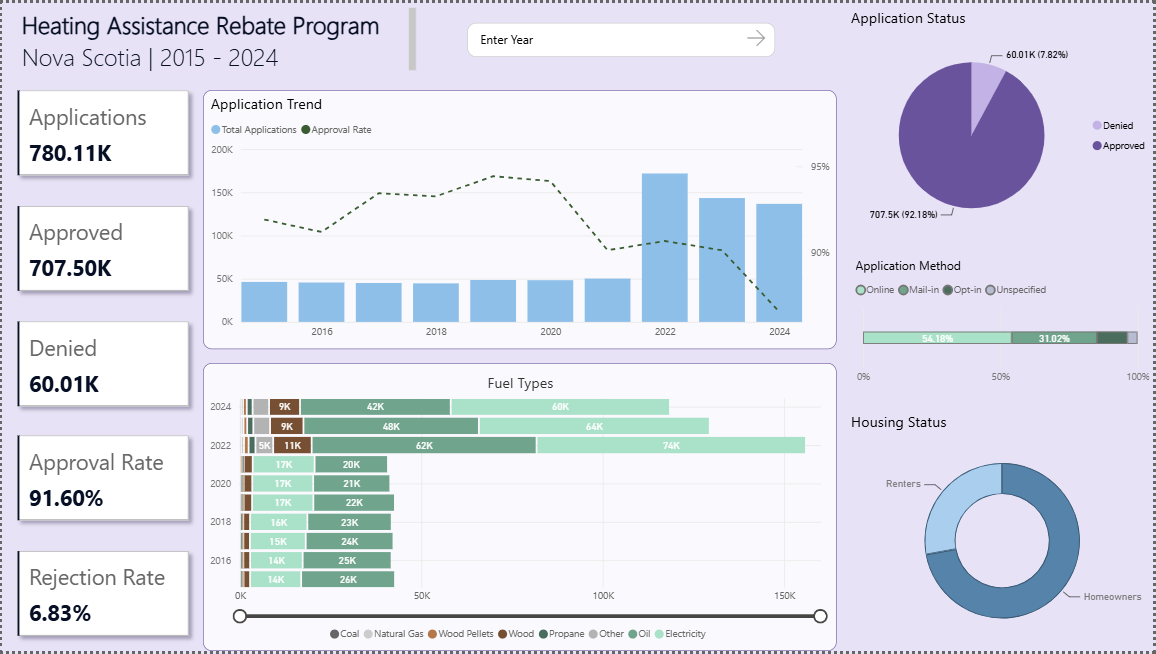

Layout of this report page (visuals, bound fields, positions):
{"tool":"powerbi","page":{"name":"Overview","canvas":[1280,720],"ordinal":0},"visuals":[{"type":"barChart","title":"Fuel Types","fields":{"Category":["Heating_Assistance_Rebate_Program_20260807.Year"],"Y":["Sum(Heating_Assistance_Rebate_Program_20260807.Coal)","Sum(Heating_Assistance_Rebate_Program_20260807.Natural Gas)","Sum(Heating_Assistance_Rebate_Program_20260807.Wood Pellets)","Sum(Heating_Assistance_Rebate_Program_20260807.Wood)","Sum(Heating_Assistance_Rebate_Program_20260807.Propane)","Sum(Heating_Assistance_Rebate_Program_20260807.Other)","Sum(Heating_Assistance_Rebate_Program_20260807.Oil)","Sum(Heating_Assistance_Rebate_Program_20260807.Electricity)"]},"box":[224,400,704,320],"z":0},{"type":"pieChart","title":"Application Status","fields":{"Y":["Sum(Heating_Assistance_Rebate_Program_20260807.Denied Applications)","Sum(Heating_Assistance_Rebate_Program_20260807.Approved Applications)"]},"box":[944,0,336,272],"z":1000},{"type":"hundredPercentStackedBarChart","title":"Application Method","fields":{"Y":["Sum(Heating_Assistance_Rebate_Program_20260807.Online Applications)","Sum(Heating_Assistance_Rebate_Program_20260807.Mailed-in Applications)","Sum(Heating_Assistance_Rebate_Program_20260807.Opt-in Applications from Property Tax Rebate for Seniors)","Sum(Heating_Assistance_Rebate_Program_20260807.Other Applications)"]},"box":[944,272,336,160],"z":2000},{"type":"actionButton","box":[0,0,100,40],"z":3000},{"type":"donutChart","title":"Housing Status","fields":{"Y":["Sum(Heating_Assistance_Rebate_Program_20260807.Homeowners)","Sum(Heating_Assistance_Rebate_Program_20260807.Renters)"]},"box":[944,448,336,272],"z":4000},{"type":"cardVisual","fields":{"Data":["Avg(Heating_Assistance_Rebate_Program_20260807.Approval Rate)"]},"box":[0,464,224,128],"z":5000},{"type":"cardVisual","fields":{"Data":["Sum(Heating_Assistance_Rebate_Program_20260807.Denied Applications)"]},"box":[0,336,224,128],"z":6000},{"type":"cardVisual","fields":{"Data":["Sum(Heating_Assistance_Rebate_Program_20260807.Approved Applications)"]},"box":[0,208,224,128],"z":7000},{"type":"cardVisual","fields":{"Data":["Avg(Heating_Assistance_Rebate_Program_20260807.Rejection Rate)"]},"box":[0,592,224,128],"z":8000},{"type":"cardVisual","fields":{"Data":["Sum(Heating_Assistance_Rebate_Program_20260807.Total Applications)"]},"box":[0,80,224,128],"z":9000},{"type":"lineClusteredColumnComboChart","title":"Application Trend","fields":{"Category":["Heating_Assistance_Rebate_Program_20260807.Year"],"Y":["Sum(Heating_Assistance_Rebate_Program_20260807.Total Applications)"],"Y2":["Sum(Heating_Assistance_Rebate_Program_20260807.Approval Rate)"]},"box":[224,96,704,288],"z":10000},{"type":"textSlicer","fields":{"Values":["Heating_Assistance_Rebate_Program_20260807.Year"]},"box":[512,16,352,48],"z":11000},{"type":"textbox","box":[16,0,448,80],"z":12000}]}

Visuals, with their boxes in screenshot pixels (x1, y1, x2, y2), scaled from the page's 1280x720 canvas onto the 1156x654 screenshot:
"Fuel Types" barChart: BBox(202, 363, 838, 653)
"Application Status" pieChart: BBox(853, 0, 1155, 247)
"Application Method" hundredPercentStackedBarChart: BBox(853, 247, 1155, 392)
actionButton: BBox(0, 0, 90, 36)
"Housing Status" donutChart: BBox(853, 407, 1155, 653)
cardVisual - Avg(Heating_Assistance_Rebate_Program_20260807.Approval Rate): BBox(0, 421, 202, 538)
cardVisual - Sum(Heating_Assistance_Rebate_Program_20260807.Denied Applications): BBox(0, 305, 202, 421)
cardVisual - Sum(Heating_Assistance_Rebate_Program_20260807.Approved Applications): BBox(0, 189, 202, 305)
cardVisual - Avg(Heating_Assistance_Rebate_Program_20260807.Rejection Rate): BBox(0, 538, 202, 653)
cardVisual - Sum(Heating_Assistance_Rebate_Program_20260807.Total Applications): BBox(0, 73, 202, 189)
"Application Trend" lineClusteredColumnComboChart: BBox(202, 87, 838, 349)
textSlicer - Heating_Assistance_Rebate_Program_20260807.Year: BBox(462, 15, 780, 58)
textbox: BBox(14, 0, 419, 73)
